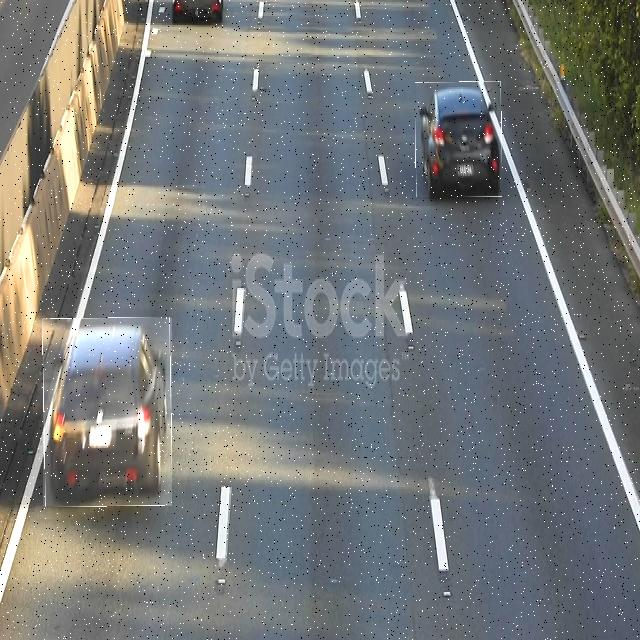Car: (43, 318, 172, 506), (416, 82, 502, 197)
